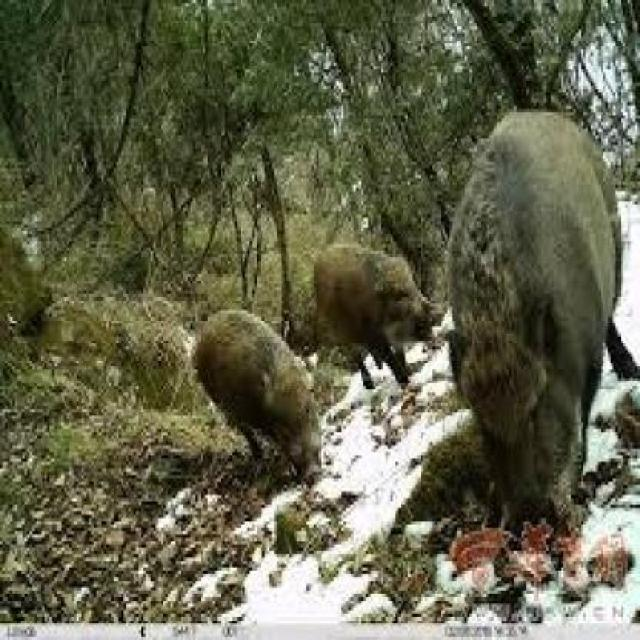wildboar: (430, 98, 630, 552), (192, 301, 333, 488), (309, 235, 440, 420)
